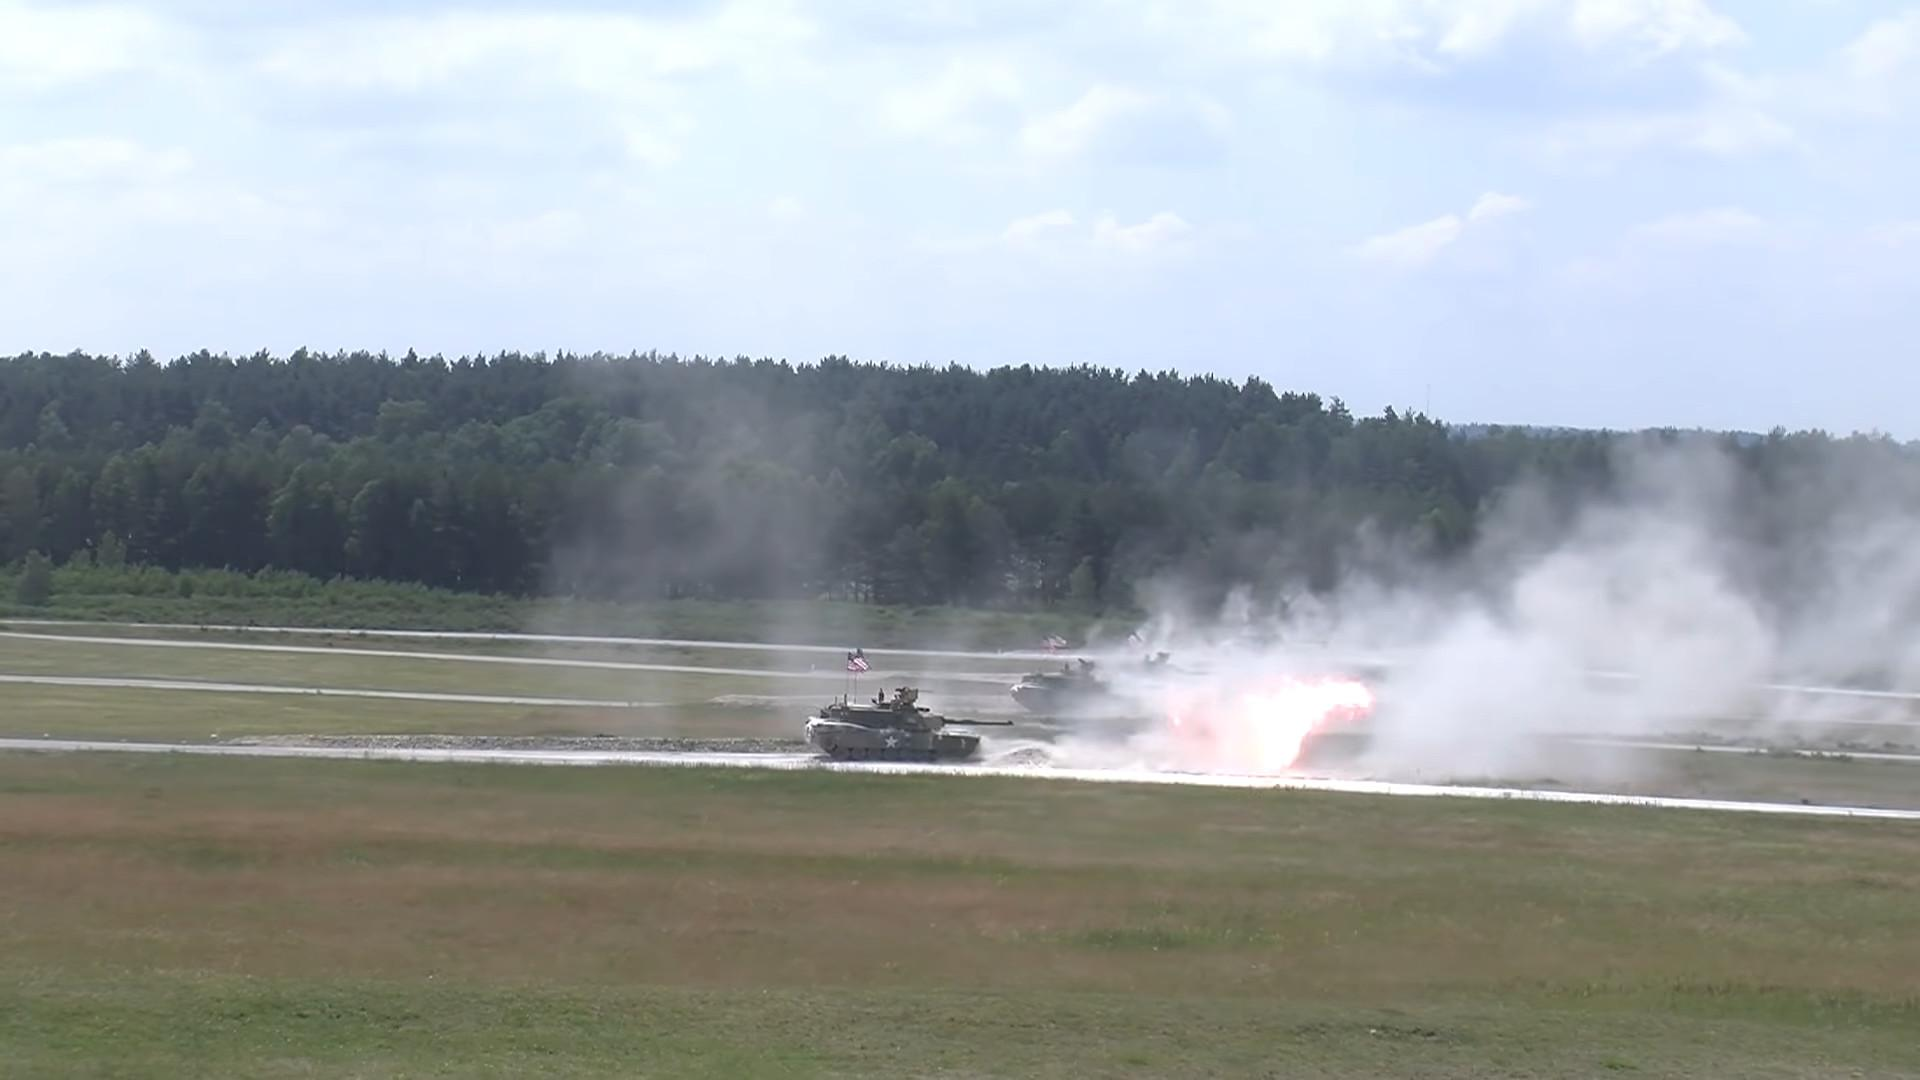tank: (804, 688, 1013, 762), (1010, 670, 1141, 712)
